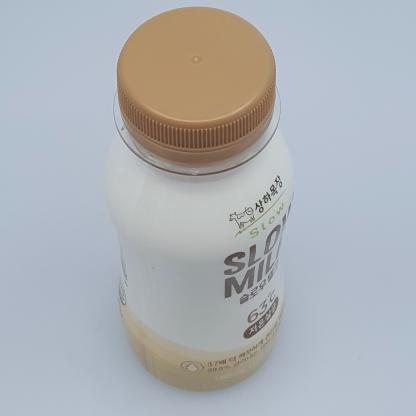----------180ML: (105, 6, 295, 392)
